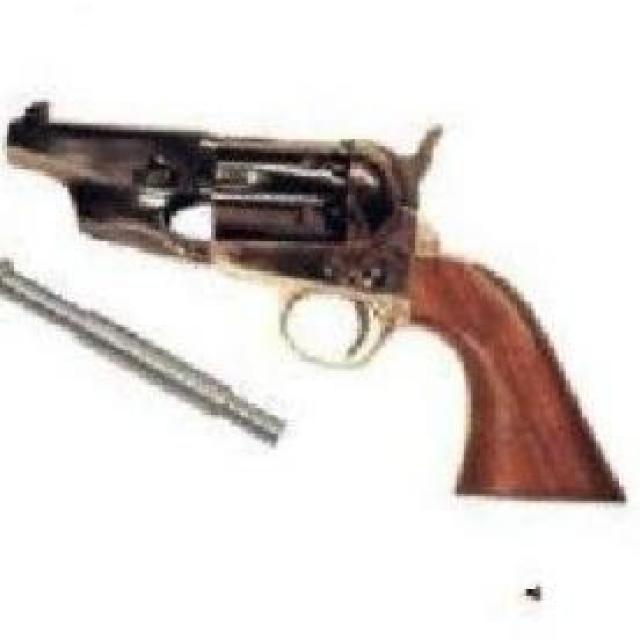pistol: (6, 98, 631, 504)
